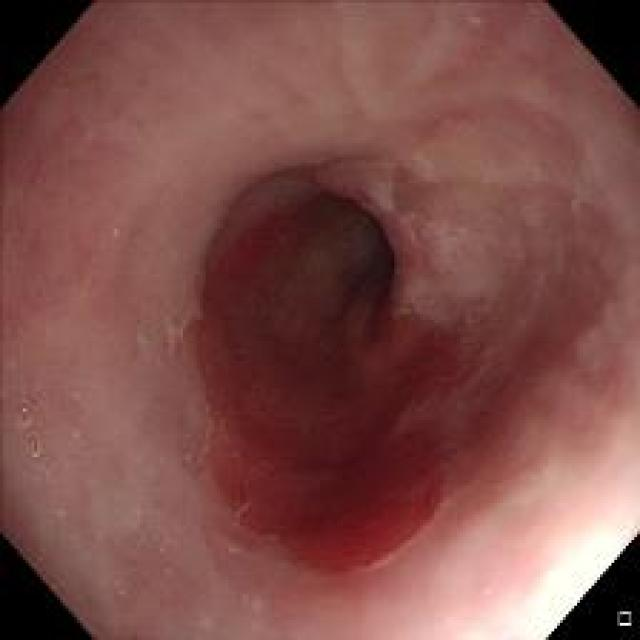bubbles: (11, 395, 42, 459)
contrast: (310, 189, 391, 325)
saturation: (498, 510, 635, 635)
